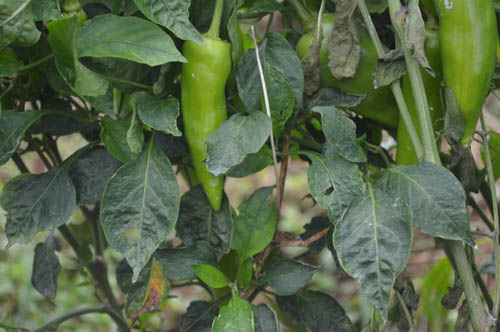ChiliPepper: (302, 22, 396, 128), (179, 38, 226, 211), (393, 32, 441, 182), (437, 1, 490, 132)
